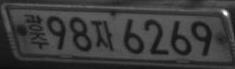2: (146, 18, 170, 55)
6: (122, 17, 146, 55), (170, 19, 192, 57)
8: (67, 16, 92, 51)
9: (192, 19, 212, 57), (50, 14, 67, 50)
광주_V: (22, 12, 50, 49)
자: (92, 19, 115, 51)
